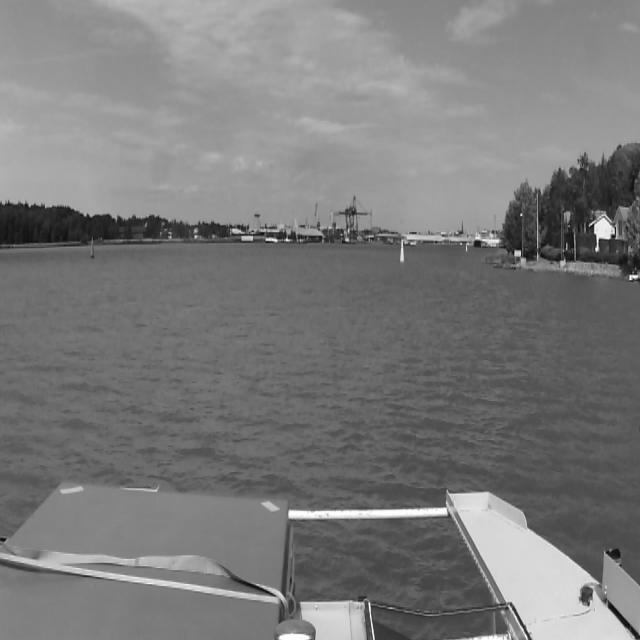buoy: (90, 237, 96, 257), (400, 242, 406, 261)
